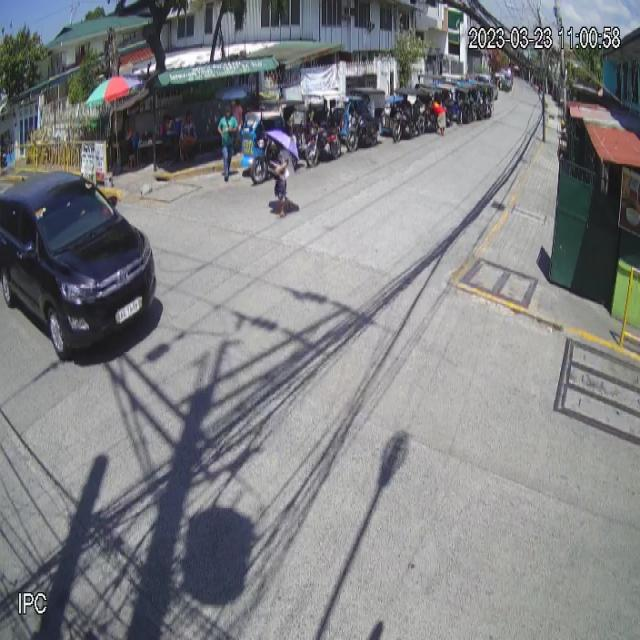Car: (0, 170, 158, 363)
